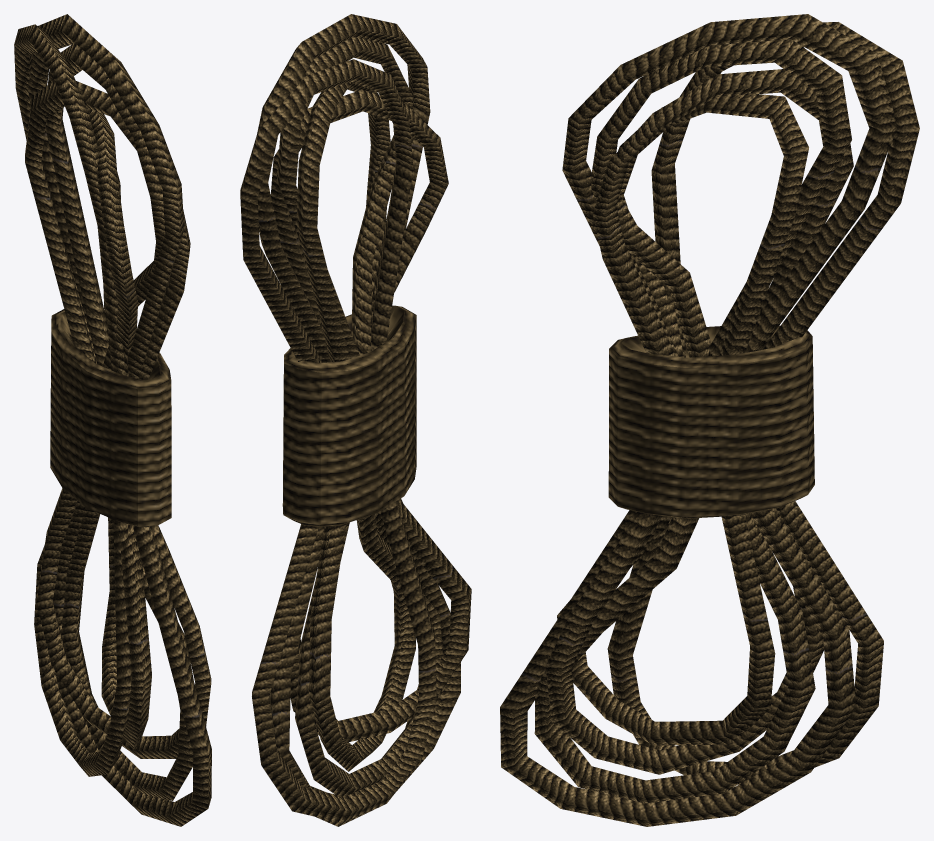
Rendered from ShipCargoRope1.FBX.
3 views of the same model, side by side, from view 1: azimuth 30°, elevation 25°; view 2: azimuth 150°, elevation 25°; view 3: azimuth 270°, elevation 25° (orthographic). The views are drawn at different scales.
Visible parts, largest first — view 1: ShipCargoRope1_LOD0; view 2: ShipCargoRope1_LOD0; view 3: ShipCargoRope1_LOD0.
Boxes of the visible parts, left/top/right/bottom form: ShipCargoRope1_LOD0: left=14, top=14, right=211, bottom=826; ShipCargoRope1_LOD0: left=240, top=14, right=471, bottom=826; ShipCargoRope1_LOD0: left=500, top=14, right=919, bottom=826.
Size of what is drawn, in the model's own units: 4.08 by 34.65 by 16.22.
